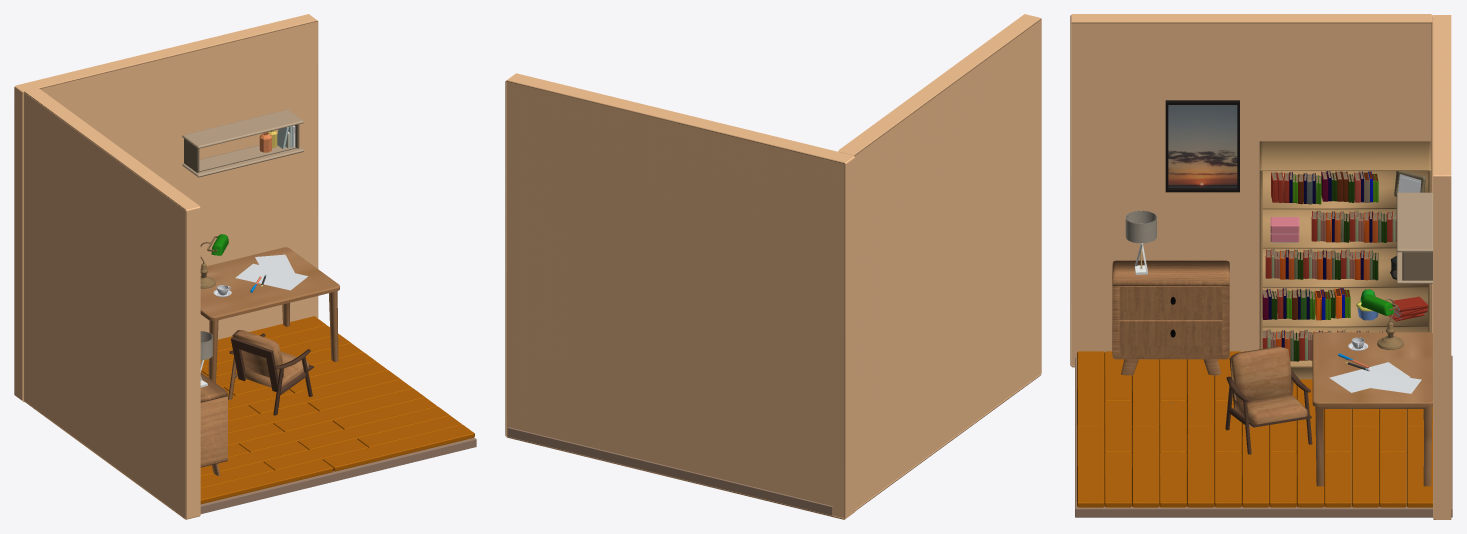
The model's file is library.glb.
3 views of the same model, side by side, from view 1: azimuth 30°, elevation 25°; view 2: azimuth 150°, elevation 25°; view 3: azimuth 270°, elevation 25° (orthographic). The views are drawn at different scales.
Visible parts, largest first — view 1: Window.001, low_poly_interior.037, books, Letter; view 2: Window.001; view 3: Window.001, books, low_poly_interior.037, Frame sunset January, Letter, Cylinder.
Part boxes in pixels (x1,y1,x2,y2): Window.001: [14, 14, 476, 519]; low_poly_interior.037: [200, 247, 339, 475]; books: [182, 109, 303, 177]; Letter: [235, 254, 307, 292]; Window.001: [505, 14, 1041, 519]; Window.001: [1070, 14, 1452, 519]; books: [1259, 141, 1432, 379]; low_poly_interior.037: [1112, 260, 1432, 486]; Frame sunset January: [1168, 105, 1237, 187]; Letter: [1329, 353, 1421, 393]; Cylinder: [1125, 210, 1156, 243].
Size of the model in its own units: 3.45 by 3.47 by 3.47.
14 materials, 14 textured.
